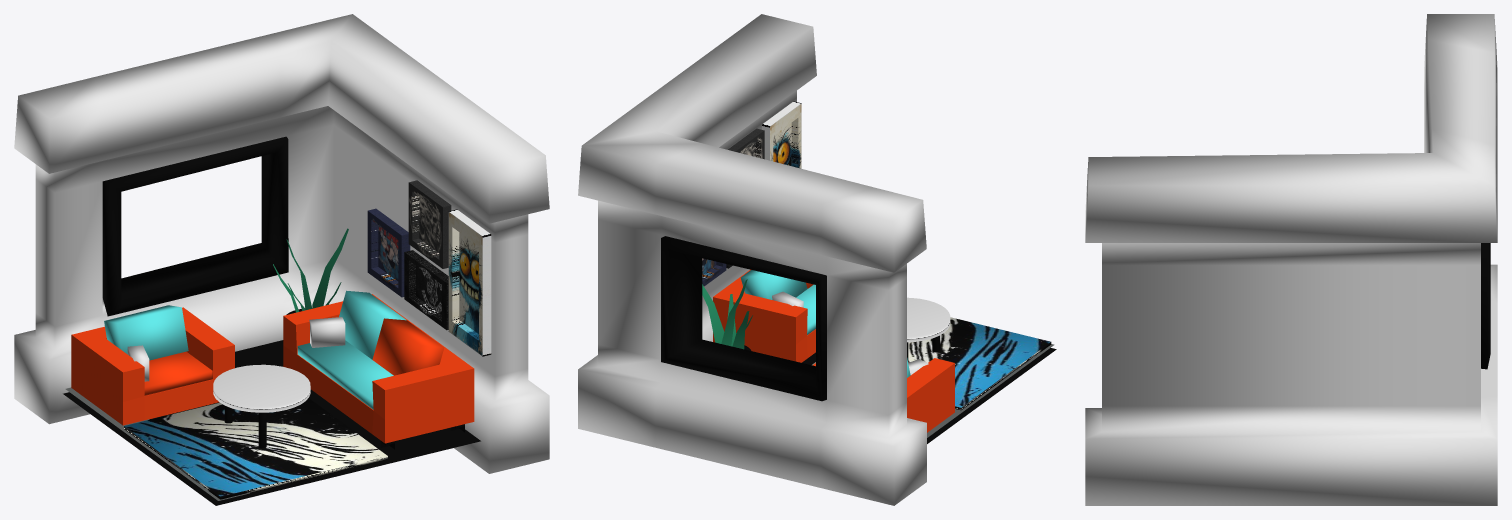
The model's file is arroom.glb.
3 renders of one model, left to right at view 1: azimuth 30°, elevation 25°; view 2: azimuth 150°, elevation 25°; view 3: azimuth 270°, elevation 25°, orthographic. The views are drawn at different scales.
Parts seen in each view (by area): view 1: ห้อง, พรม, กรอบหน้าต่าง, Cube, Cube.007, ทาน, Plane.010, Cylinder.001, Cube.009, Cube.001, Plane.013, Cube.003 (+7 smaller); view 2: ห้อง, กรอบหน้าต่าง, พรม, Cube, Cube.007, Plane.010, Cylinder.001, Cube.002, ทาน, Plane.013; view 3: ห้อง, กรอบหน้าต่าง.
Part boxes in pixels (bbox=[...]): ห้อง: bbox=[14, 14, 549, 473]; พรม: bbox=[124, 398, 387, 499]; กรอบหน้าต่าง: bbox=[102, 136, 288, 316]; Cube: bbox=[283, 294, 474, 443]; Cube.007: bbox=[71, 307, 234, 425]; ทาน: bbox=[63, 340, 480, 505]; Plane.010: bbox=[448, 209, 491, 356]; Cylinder.001: bbox=[213, 364, 310, 412]; Cube.009: bbox=[104, 305, 188, 360]; Cube.001: bbox=[297, 340, 393, 409]; Plane.013: bbox=[408, 180, 451, 268]; Cube.003: bbox=[372, 318, 444, 375]; ห้อง: bbox=[578, 14, 926, 505]; กรอบหน้าต่าง: bbox=[661, 236, 826, 401]; พรม: bbox=[812, 317, 1051, 410]; Cube: bbox=[713, 269, 815, 362]; Cube.007: bbox=[813, 358, 954, 432]; Plane.010: bbox=[762, 101, 801, 168]; Cylinder.001: bbox=[907, 297, 950, 342]; Cube.002: bbox=[740, 270, 807, 299]; ทาน: bbox=[802, 348, 1056, 443]; Plane.013: bbox=[728, 128, 764, 159]; ห้อง: bbox=[1085, 14, 1497, 505]; กรอบหน้าต่าง: bbox=[1481, 243, 1490, 369].
Bounding box in the file's own units: 2.43 × 2.12 × 2.43.
11 materials, 5 textured.
